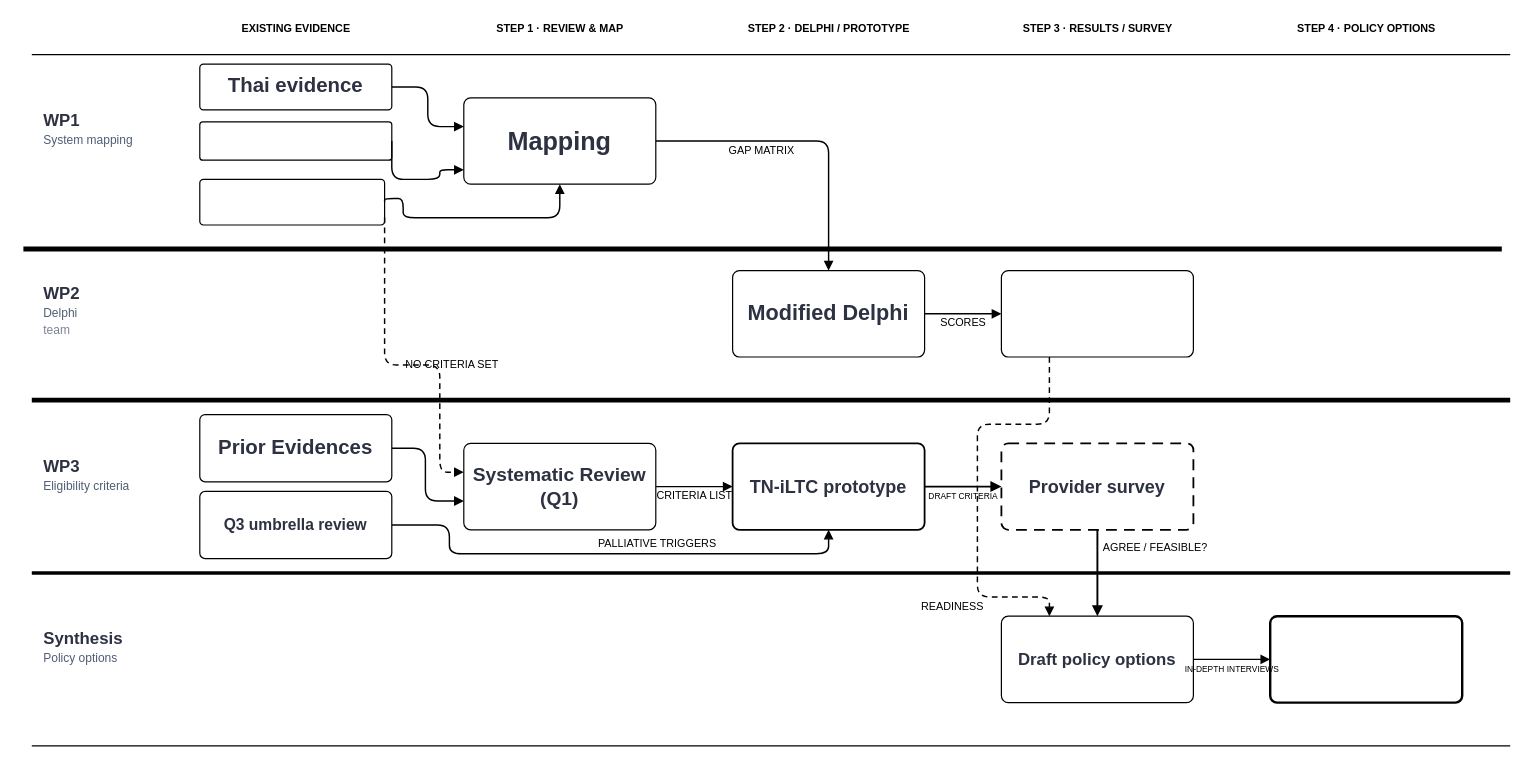
Image size: 1534x768. Some labels were removed from this diagram. The centre of each missing label's shape, as x and y in pixels:
"Policy options" goes at [1365,658].
"State data (Quanti)" goes at [295,140].
"Thai readiness vs WHO" goes at [1096,313].
"WHO LTC Standards" goes at [292,201].
